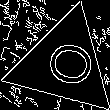O_W: (33, 36, 94, 91)
